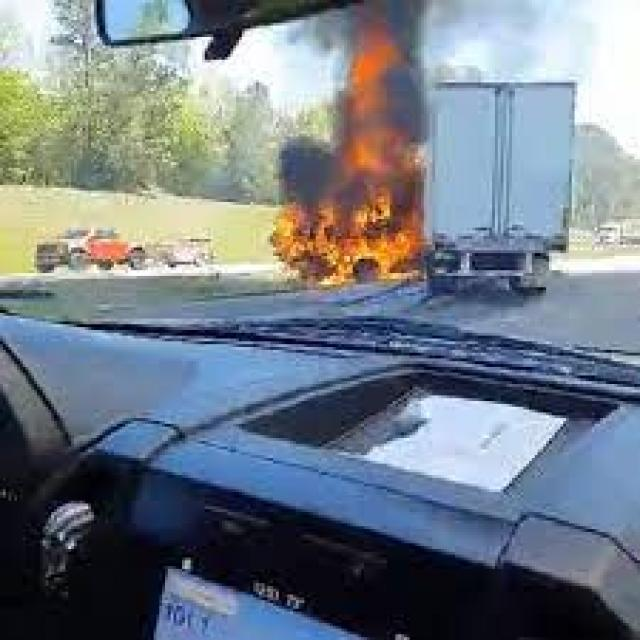fire: (273, 40, 427, 279)
